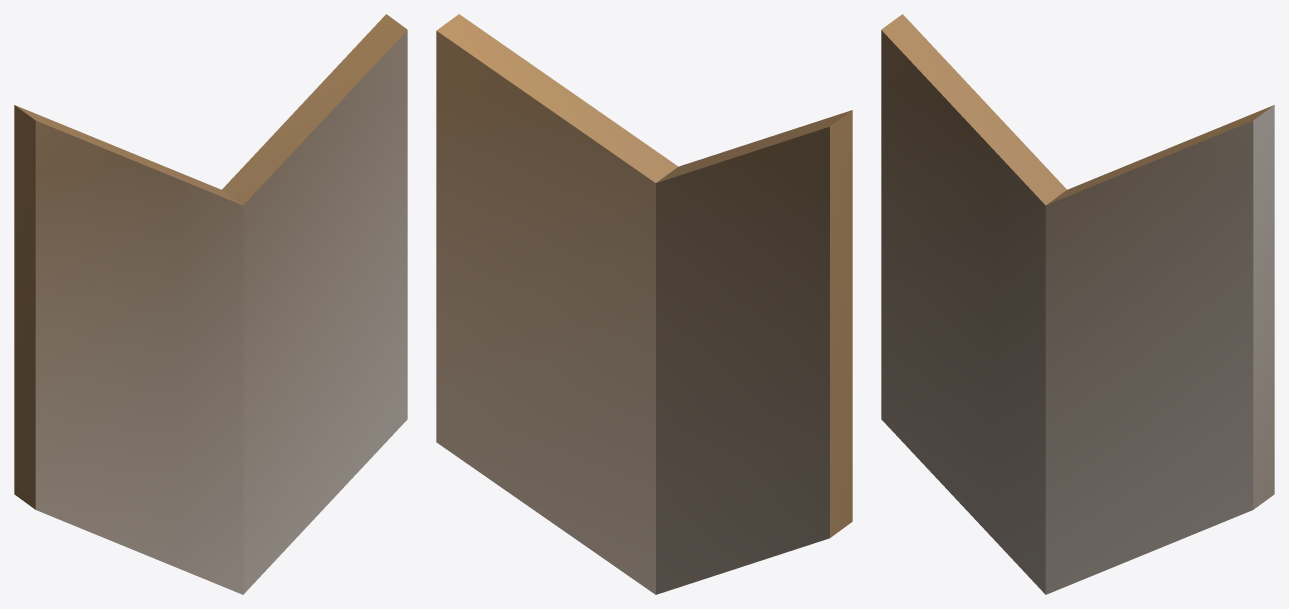
Rendered from ArmorLvl1.fbx.
3 views of the same model, side by side, from view 1: azimuth 30°, elevation 25°; view 2: azimuth 150°, elevation 25°; view 3: azimuth 330°, elevation 25° (orthographic). The views are drawn at different scales.
Parts seen in each view (by area): view 1: armor_lvl1; view 2: armor_lvl1; view 3: armor_lvl1.
Part boxes in pixels (left/top/right/bottom): armor_lvl1: left=14, top=14, right=407, bottom=594; armor_lvl1: left=436, top=14, right=852, bottom=594; armor_lvl1: left=881, top=14, right=1274, bottom=594.
Size of the model in its own units: 1.4 by 1.81 by 0.2794.
